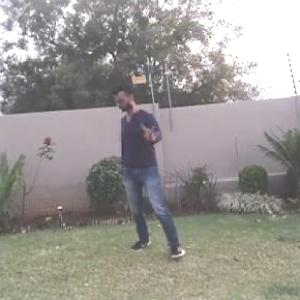takeoff-hand: (133, 113, 162, 143)
